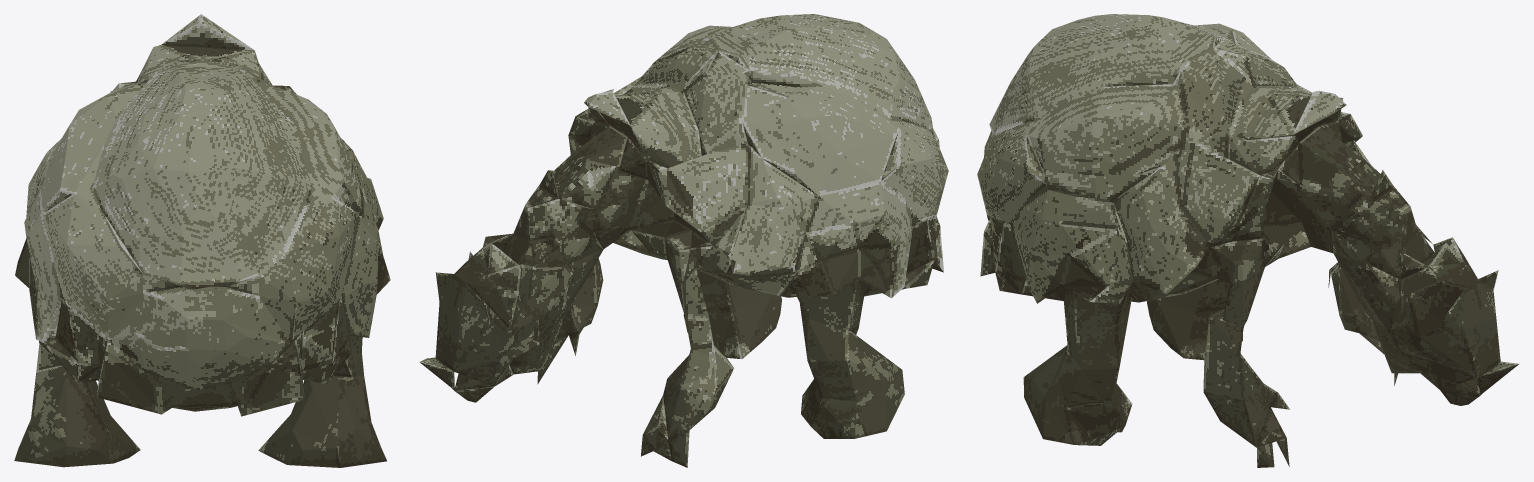
Rendered from iwagame.glb.
3 renders of one model, left to right at view 1: azimuth 30°, elevation 25°; view 2: azimuth 150°, elevation 25°; view 3: azimuth 270°, elevation 25°, orthographic. The views are drawn at different scales.
Parts seen in each view (by area): view 1: model_m; view 2: model_m; view 3: model_m.
Boxes of the visible parts, bbox=[...] form: model_m: bbox=[14, 14, 390, 467]; model_m: bbox=[419, 14, 948, 467]; model_m: bbox=[977, 14, 1519, 467].
Size of the model in its own units: 26.57 by 27.11 by 36.21.
1 material, 1 textured.
